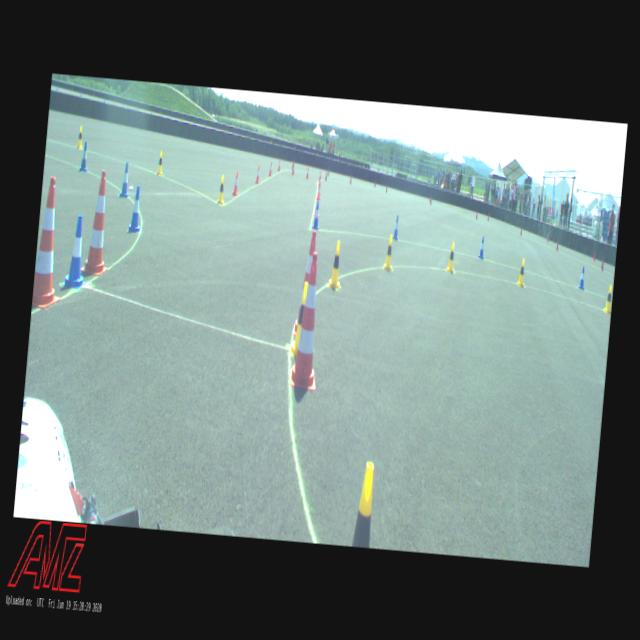blue_cone: (60, 214, 90, 292), (128, 185, 144, 232), (119, 161, 131, 198), (78, 140, 90, 172), (312, 200, 320, 230), (578, 266, 586, 290), (392, 214, 399, 238), (478, 236, 484, 259)
large_orange_cone: (288, 252, 326, 391), (31, 175, 70, 310), (80, 168, 116, 277), (292, 228, 316, 336)
orange_cone: (232, 170, 240, 195), (254, 164, 260, 183), (316, 182, 322, 200), (268, 160, 272, 176), (277, 158, 281, 171), (290, 162, 294, 174), (306, 166, 310, 178)
yellow_cone: (351, 461, 376, 548), (290, 280, 308, 353), (328, 240, 344, 292), (382, 232, 394, 272), (446, 240, 456, 272), (516, 257, 526, 287), (603, 284, 613, 313), (216, 175, 225, 204), (156, 149, 163, 175), (76, 126, 84, 147)
